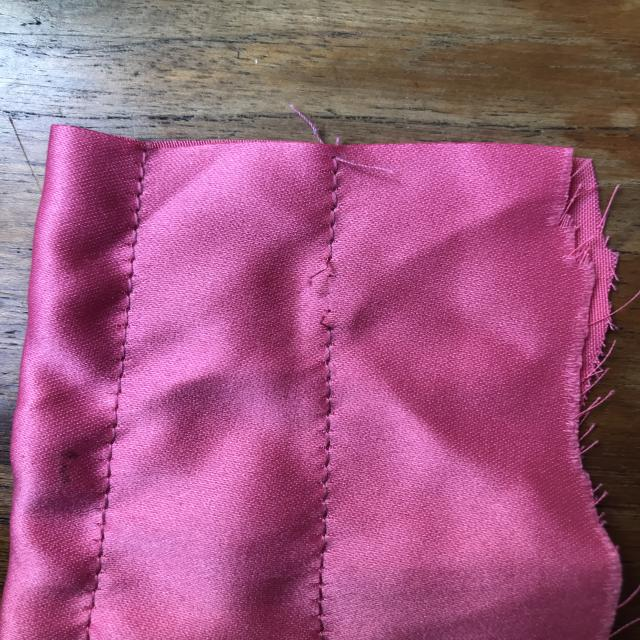broken: (287, 245, 365, 342)
